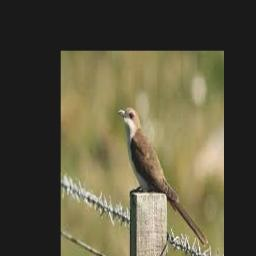Cuckoo: (117, 107, 207, 245)
